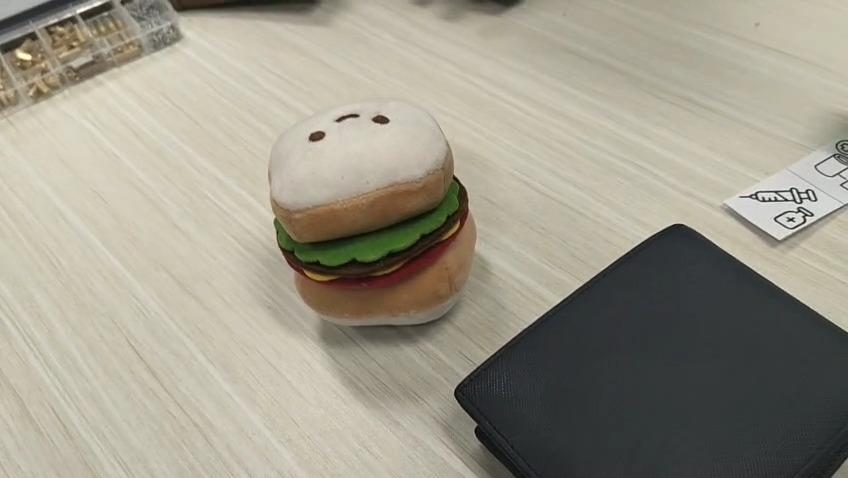objects: (270, 98, 478, 327)
